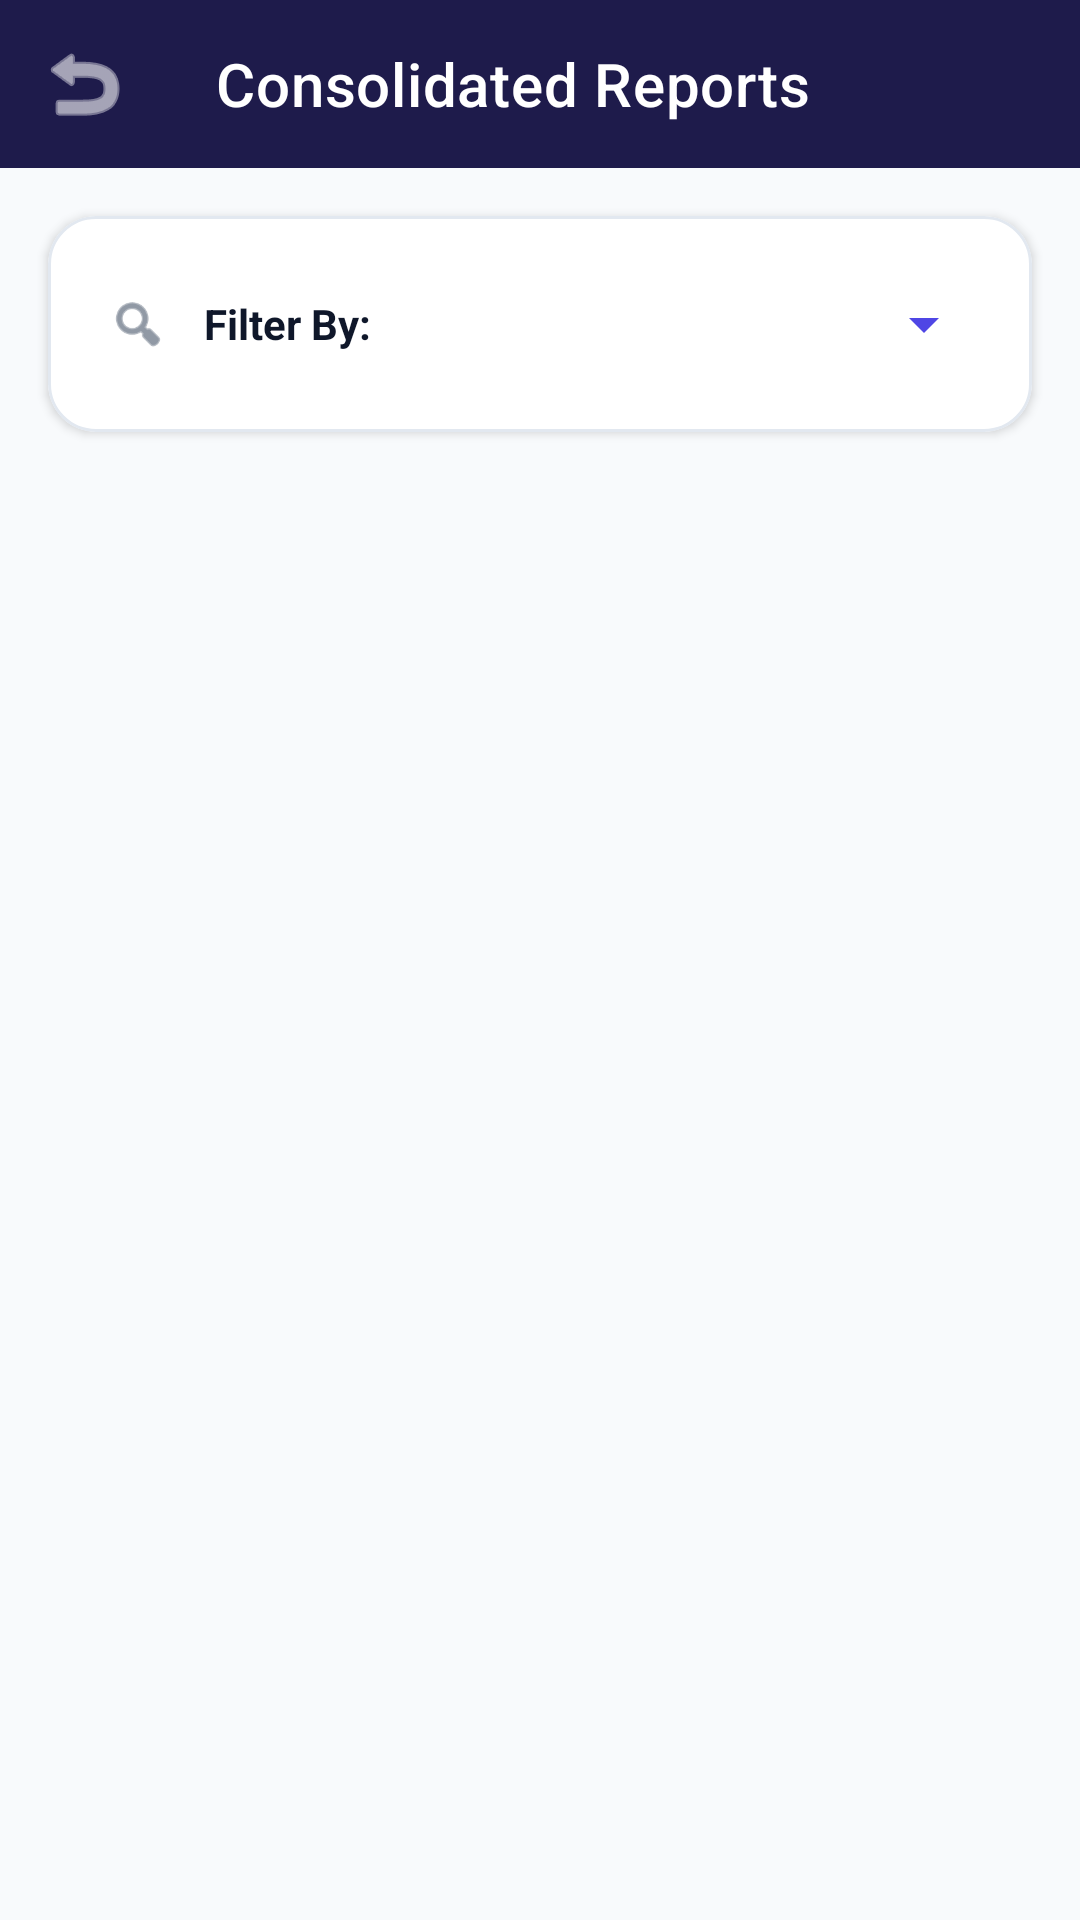

Named icons in this screenshot (1080 x 1920) and their bounding boxes, {"x1": x1, "y1": y1, "x2": x2, "y2": y2}:
search: {"x1": 116, "y1": 302, "x2": 160, "y2": 347}
